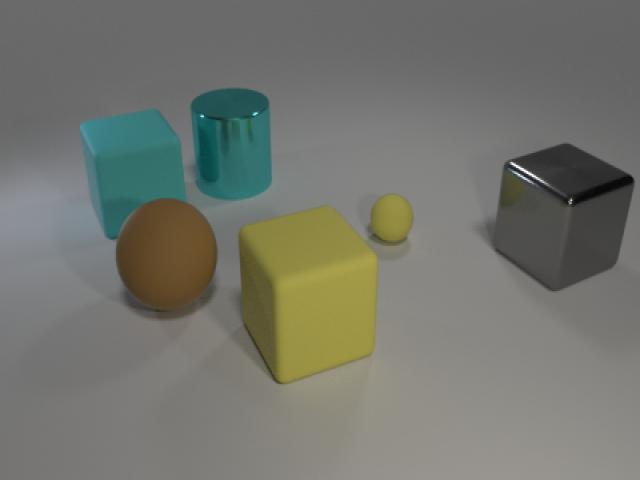cylinder: (187, 78, 284, 202)
round ball: (110, 191, 220, 318), (367, 186, 421, 248)
